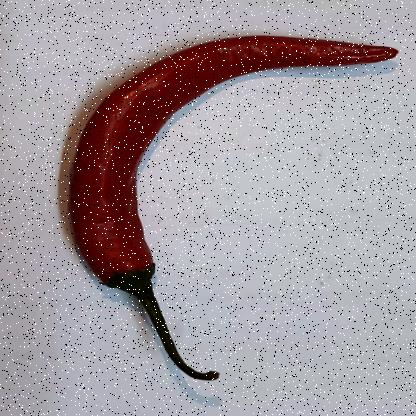chili: (67, 34, 394, 396)
